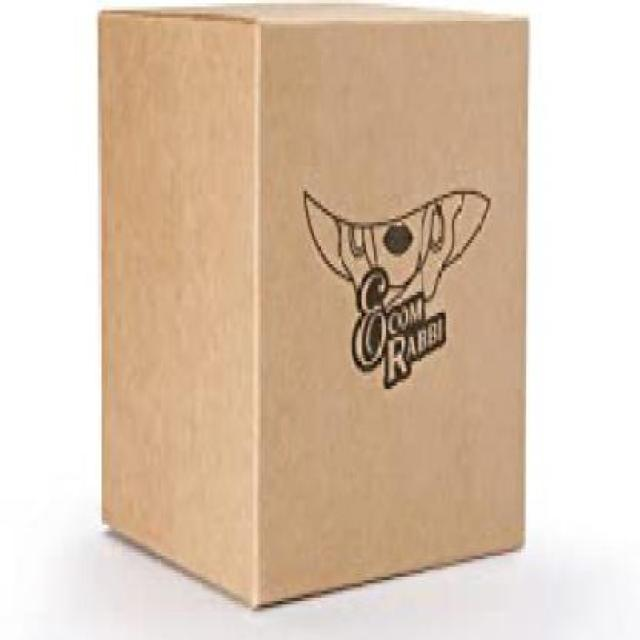box: (92, 0, 538, 616)
